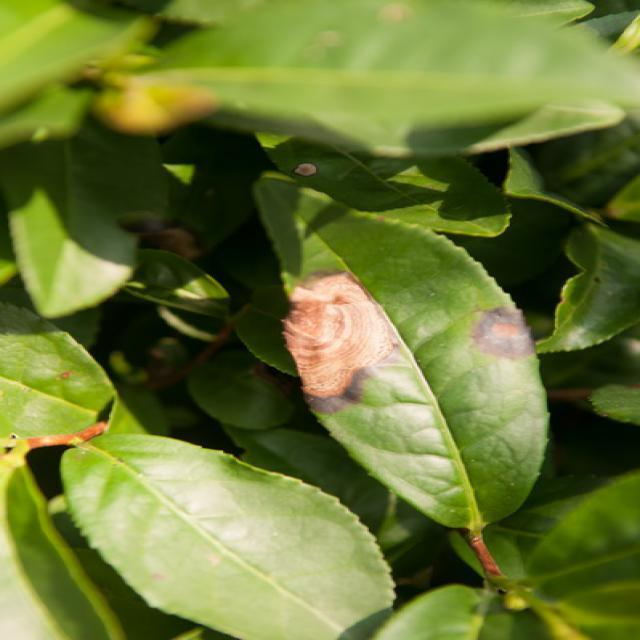Tea cloud leaf blight: (285, 273, 416, 412)
